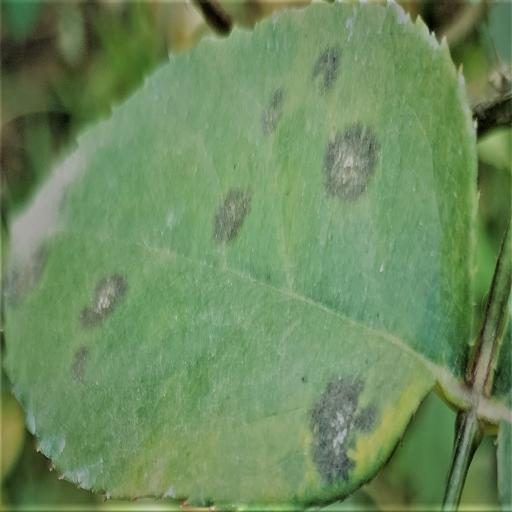black_spot: (0, 1, 512, 508)
